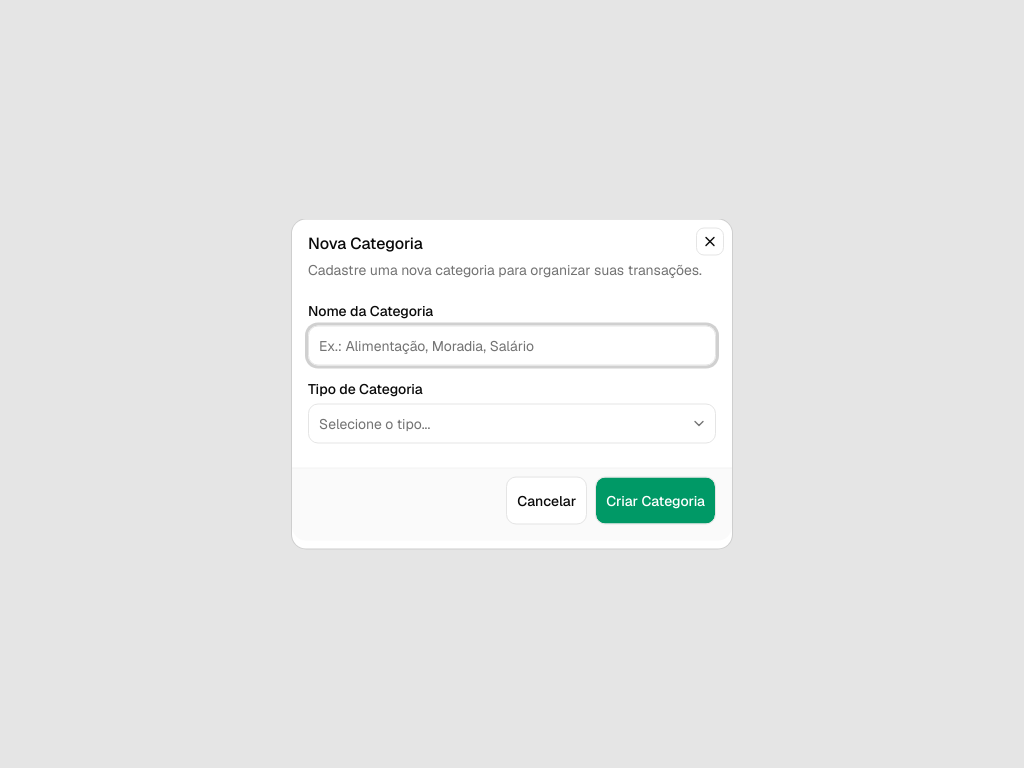
it: CategoryFormDialog Component › deve exibir erro de validação ao tentar submeter com nome vazio
Click the button with test id "category-submit-button" at coordinates (656, 500), box left=595, top=476, right=716, bottom=524
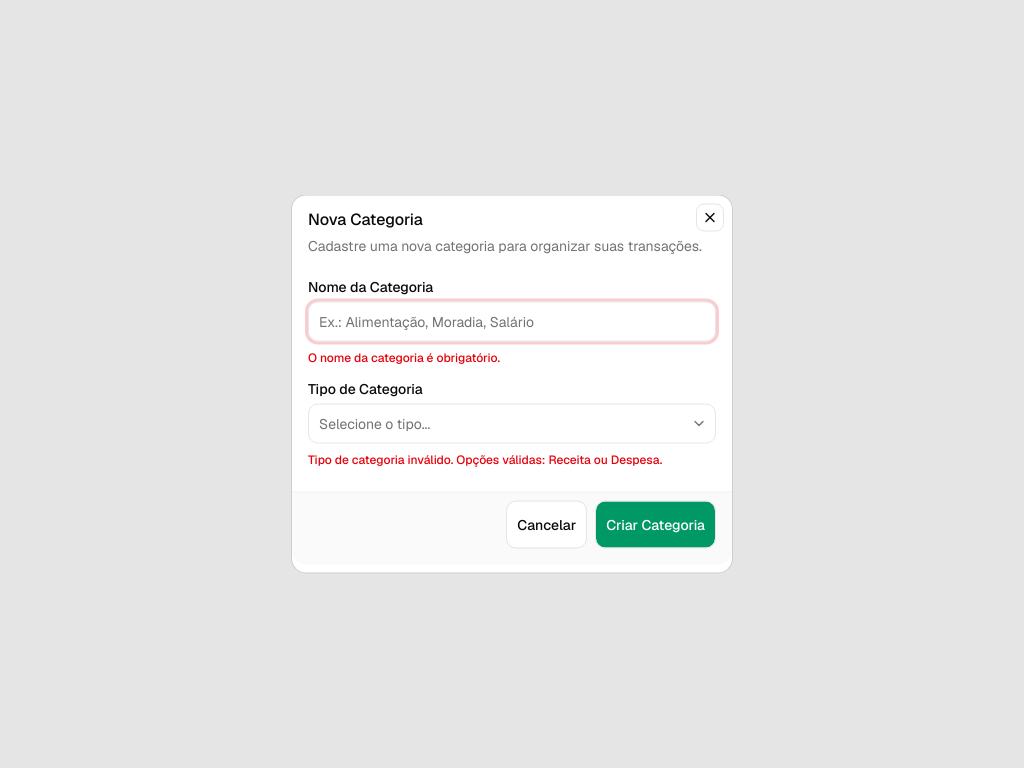
Expected: the text "O nome da categoria é obrigatório." is shown, left=308, top=350, right=500, bottom=366
